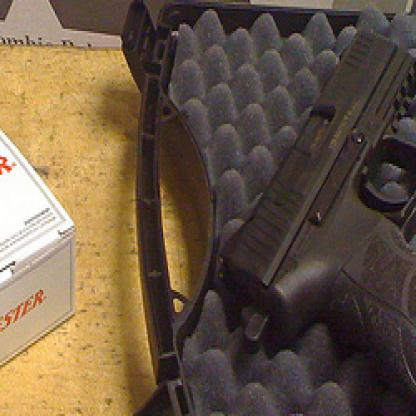gun: (205, 18, 414, 414)
